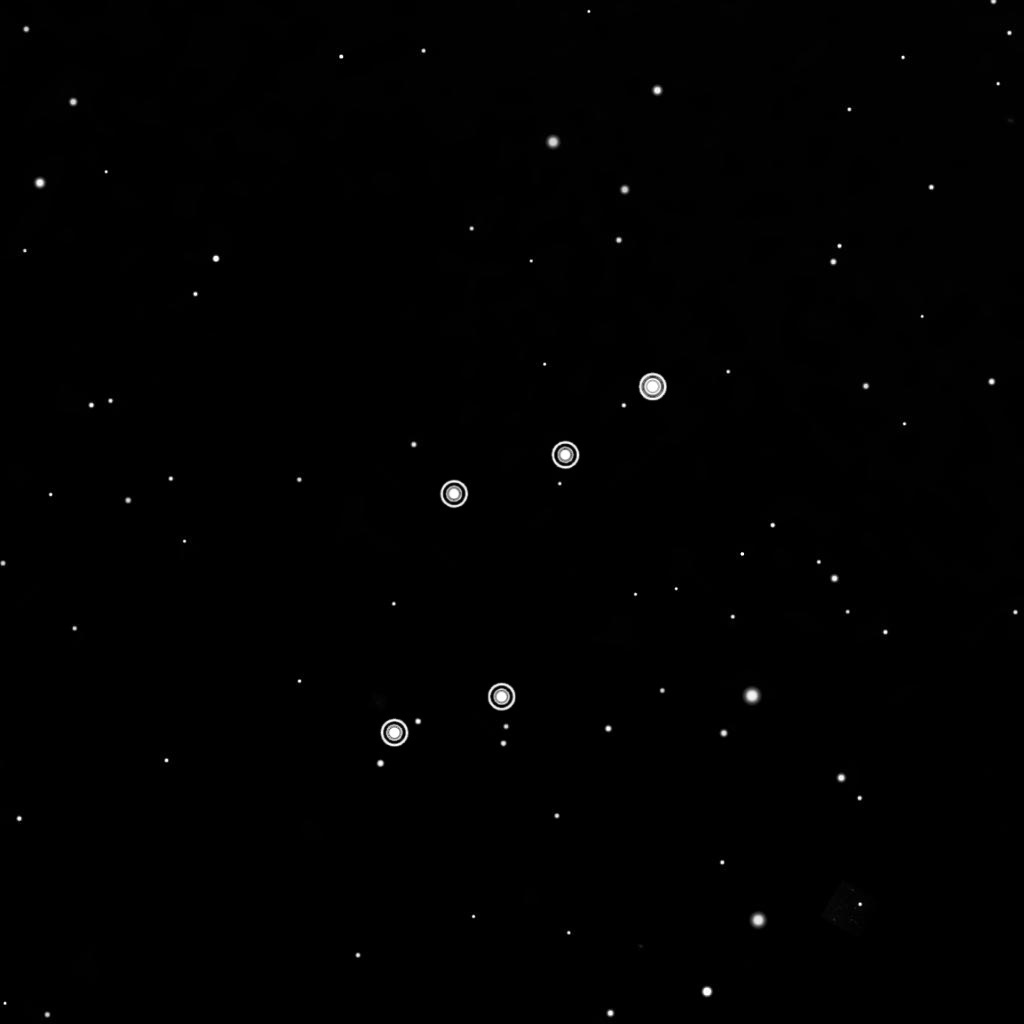lyra: (372, 361, 675, 753)
